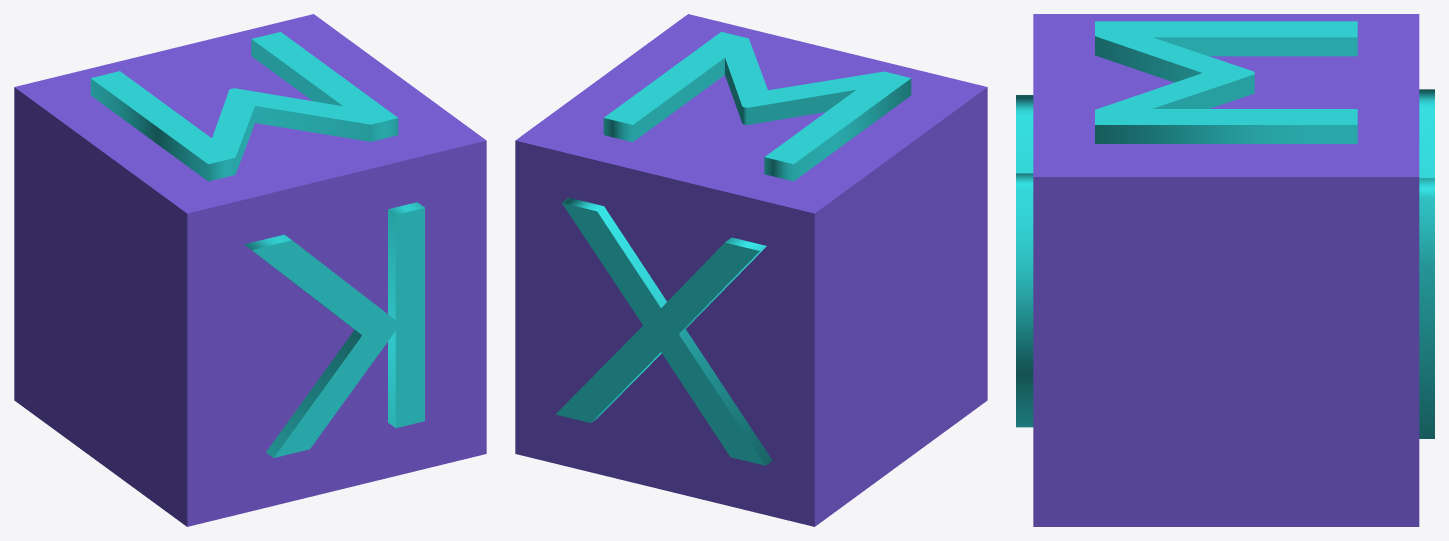
Rendered from letra2.glb.
3 renders of one model, left to right at view 1: azimuth 30°, elevation 25°; view 2: azimuth 150°, elevation 25°; view 3: azimuth 270°, elevation 25°, orthographic. The views are drawn at different scales.
Visible parts, largest first — view 1: Cube2; view 2: Cube2; view 3: Cube2.
Boxes of the visible parts, x1,y1,x2,y2 form: Cube2: [14, 14, 486, 526]; Cube2: [515, 14, 987, 526]; Cube2: [1016, 14, 1434, 526].
Bounding box in the file's own units: 2 × 2.19 × 2.17.
